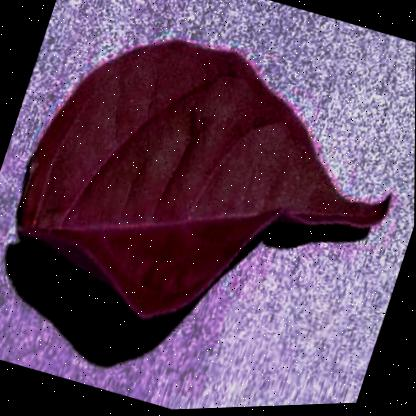Healthy: (0, 0, 415, 390)
